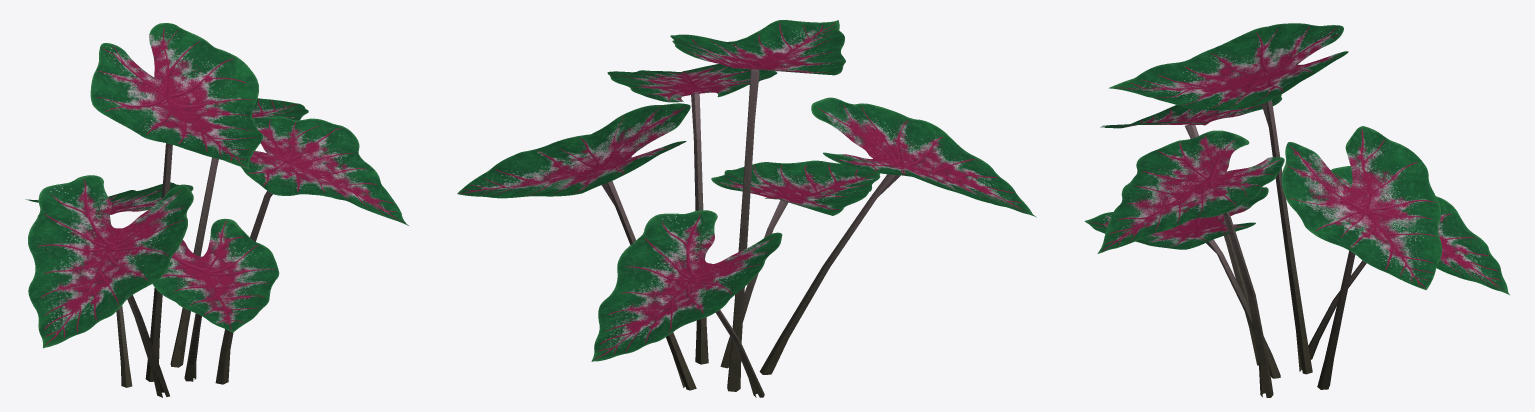
The model's file is Caladium_Grp_A.FBX.
3 renders of one model, left to right at view 1: azimuth 30°, elevation 25°; view 2: azimuth 150°, elevation 25°; view 3: azimuth 270°, elevation 25°, orthographic. The views are drawn at different scales.
Parts seen in each view (by area): view 1: Caladium_Grp_A; view 2: Caladium_Grp_A; view 3: Caladium_Grp_A.
Part boxes in pixels (x1,y1,x2,y2): Caladium_Grp_A: [25, 23, 408, 397]; Caladium_Grp_A: [457, 20, 1036, 397]; Caladium_Grp_A: [1084, 23, 1509, 397].
Bounding box in the file's own units: 145 × 111 × 133.
